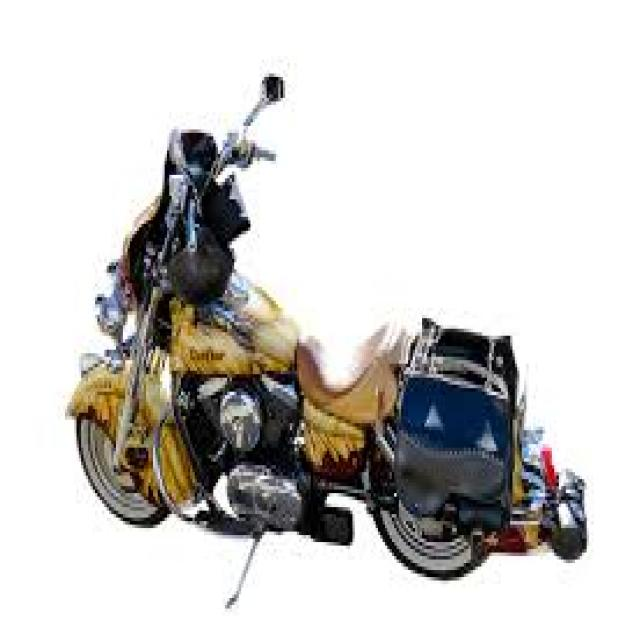Bike: (77, 108, 590, 580)
